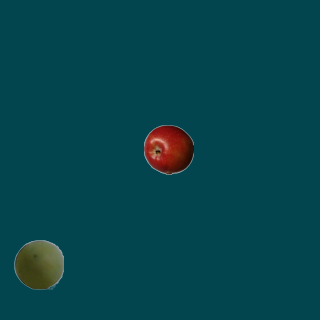Apple Braeburn: (143, 124, 193, 174)
Grape White 4: (13, 239, 63, 289)
